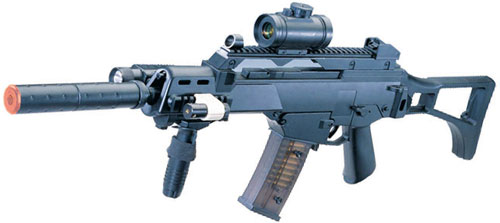rifle: (10, 10, 486, 218)
